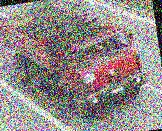truck: (0, 0, 152, 129)
